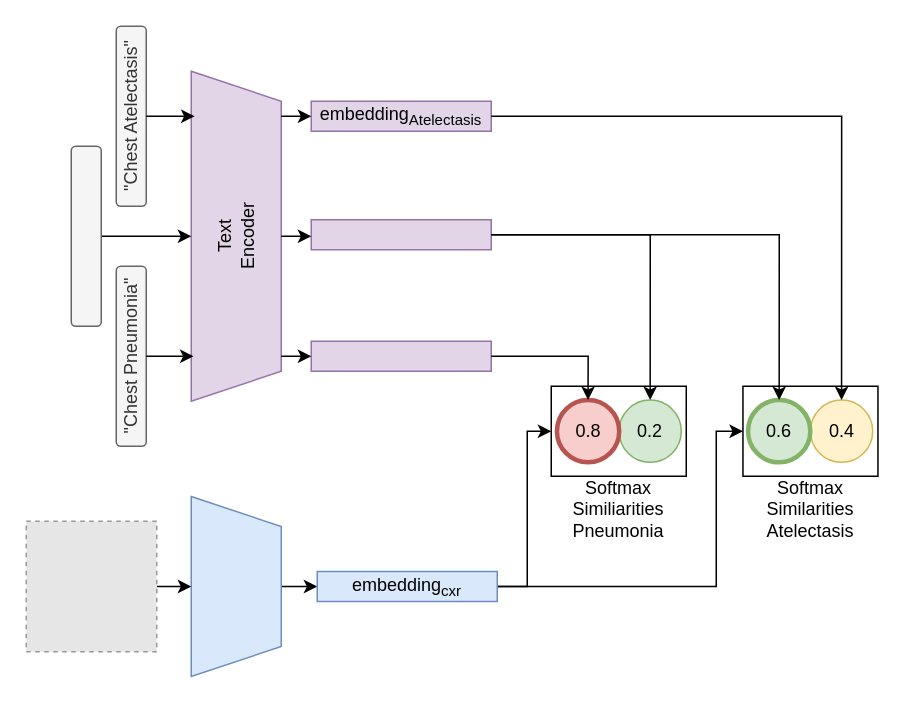
This 905x704 diagram has some shape labels left out. Grey dashed boxes stand in for pictures. The shapes that lost their labels are listed below. From the top down, each one's centre as x and y in pixels, then its label:
the point at 85,235: "Chest No Findings"
the point at 400,234: embedding NoFindings
the point at 400,355: embedding pneumonia
the point at 235,585: Image Encoder
